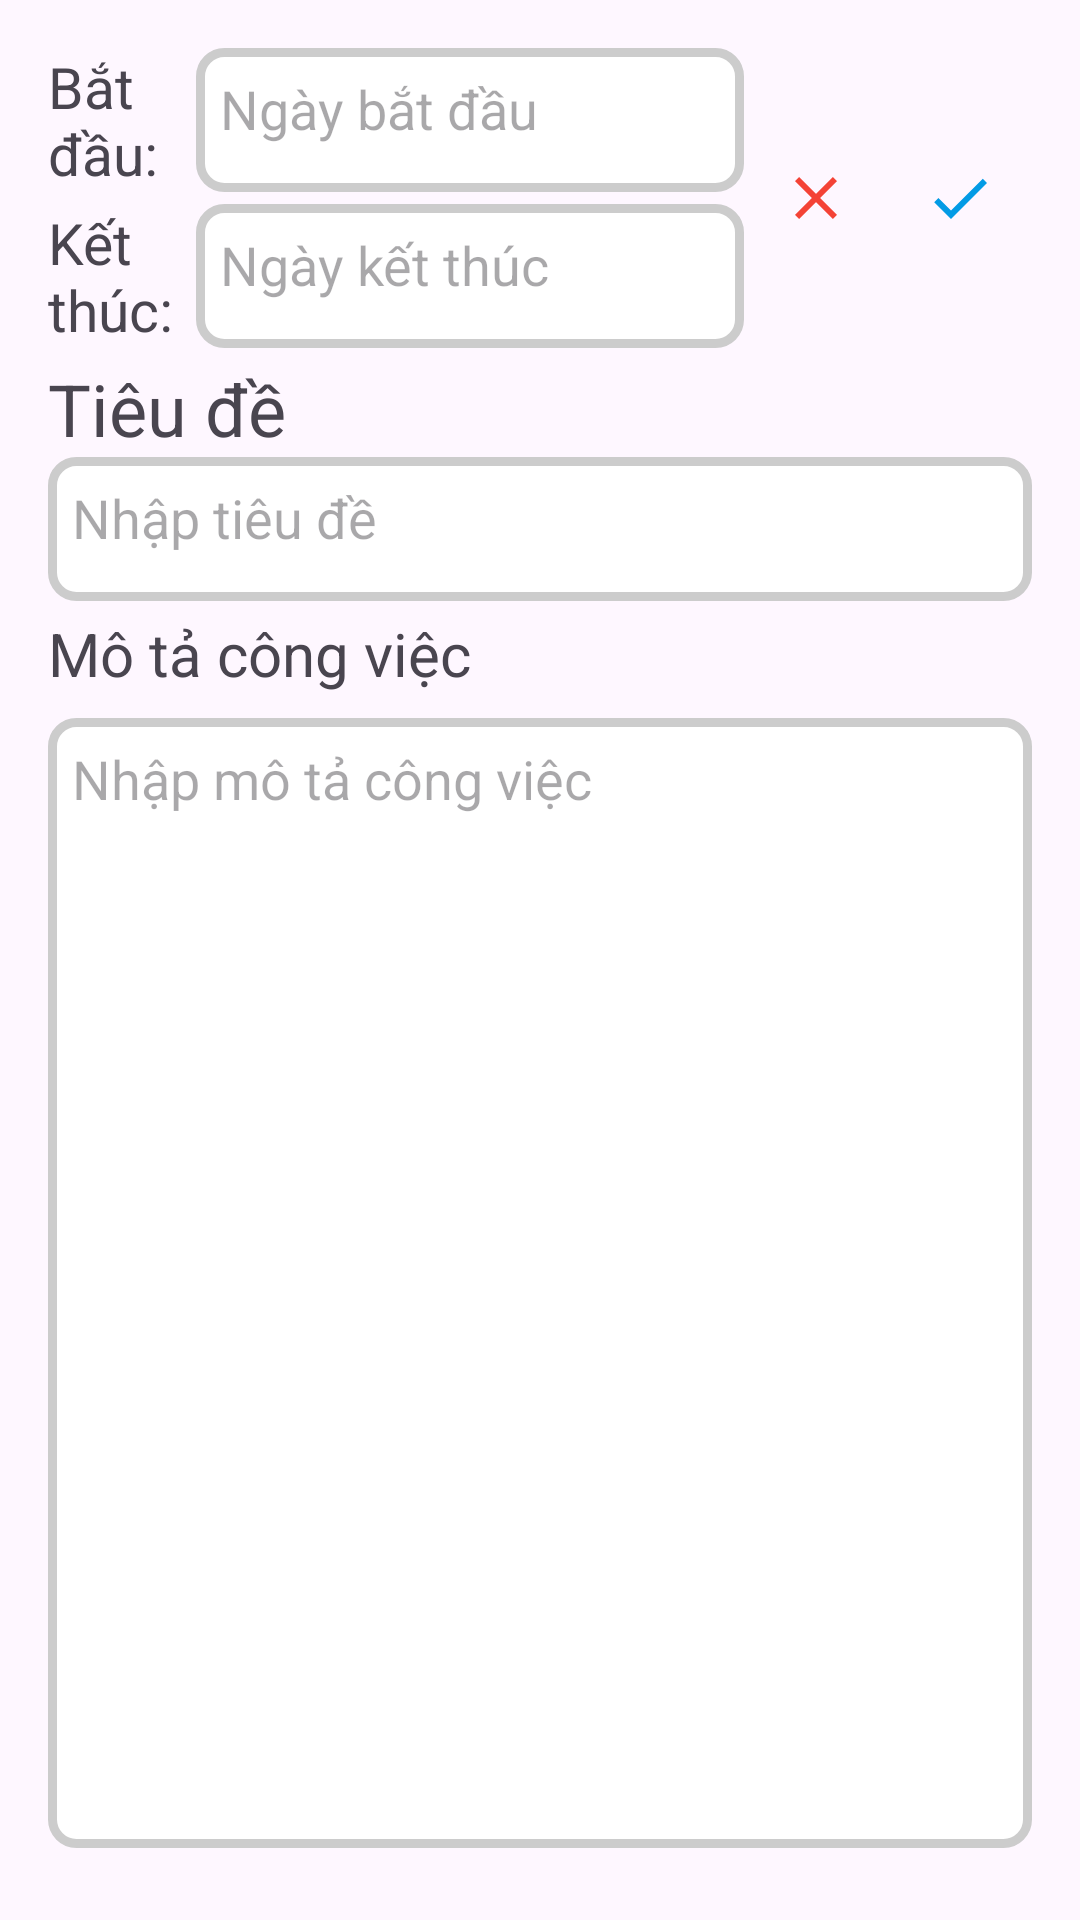

Named icons in this screenshot (1080×1920) and their bounding boxes, (x1, y1, x2, y2):
Hủy: (795, 177, 837, 219)
Lưu: (934, 179, 987, 219)
